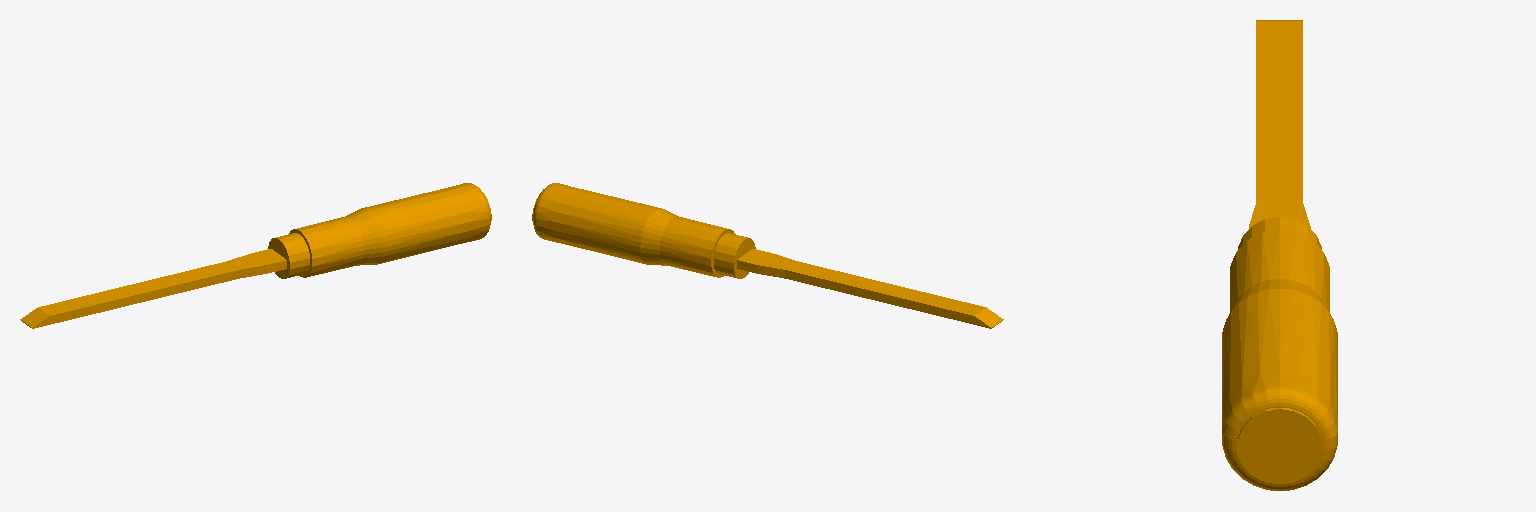
The robot description file, URDF, robot "chisel_1_L1.04_T1.01":
<?xml version="1.0" encoding="utf-8"?>
<robot name="chisel_1_L1.04_T1.01">
  <link name="chisel_1_L1.04_T1.01Link">
    <contact>
      <lateral_friction value="1"/>
    </contact>
    <inertial>
      <origin rpy="0 0 0" xyz="0 0 0"/>
      <mass value="0.0"/>
      <inertia ixx="0" ixy="0" ixz="0" iyy="0" iyz="0" izz="0"/>
    </inertial>
    <visual>
      <origin rpy="0 0 0" xyz="0 0 0"/>
      <geometry>
        <mesh filename="generated_stl/chisel/chisel_1/chisel_1_L1.04_T1.01/chisel_1_L1.04_T1.01.stl" scale="0.01 0.01 0.01"/>
      </geometry>
    </visual>
    <collision>
      <origin rpy="0 0 0" xyz="0 0 0"/>
      <geometry>
        <mesh filename="generated_stl/chisel/chisel_1/chisel_1_L1.04_T1.01/chisel_1_L1.04_T1.01.stl" scale="0.01 0.01 0.01"/>
      </geometry>
    </collision>
  </link>
</robot>

--- Render facts (derived) ---
Views: 3 orthographic renders of the robot side by side, from view 1: azimuth 30°, elevation 25°; view 2: azimuth 150°, elevation 25°; view 3: azimuth 270°, elevation 25°.
Model chisel_1_L1.04_T1.01 with 1 links and 0 joints (none), rooted at chisel_1_L1.04_T1.01Link, posed every joint at zero.
Visible links, largest first — view 1: chisel_1_L1.04_T1.01Link; view 2: chisel_1_L1.04_T1.01Link; view 3: chisel_1_L1.04_T1.01Link.
Boxes of the visible links, x1,y1,x2,y2 form: chisel_1_L1.04_T1.01Link: (20,183,491,328); chisel_1_L1.04_T1.01Link: (532,183,1003,328); chisel_1_L1.04_T1.01Link: (1222,20,1337,490).
Bounding box of the posed robot: 0.0829 × 0.0094 × 0.0092 m (x, y, z).
Meshes: 1 distinct files referenced, 1 mesh visuals loaded (1 binary STL).